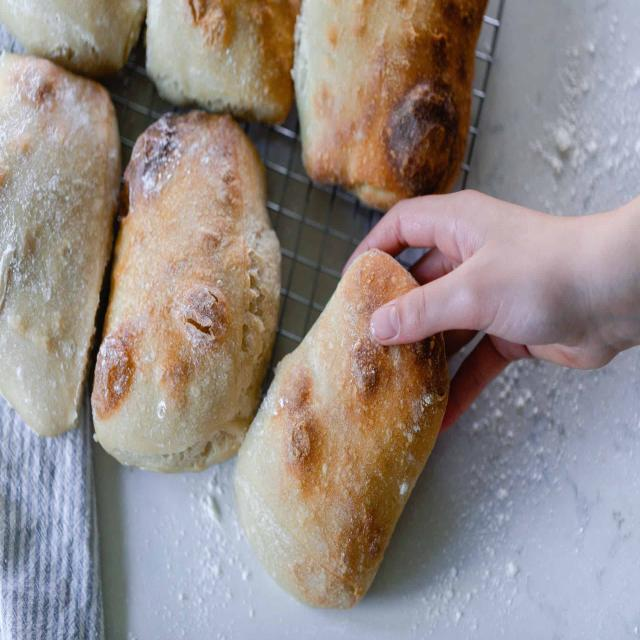Ciabatta: (235, 250, 449, 609), (91, 111, 281, 472), (0, 53, 121, 436), (293, 0, 488, 211)
